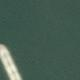ship: (0, 38, 26, 80)
